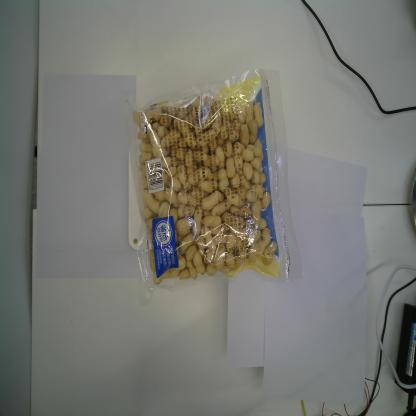Dried Food: (125, 68, 303, 305)
